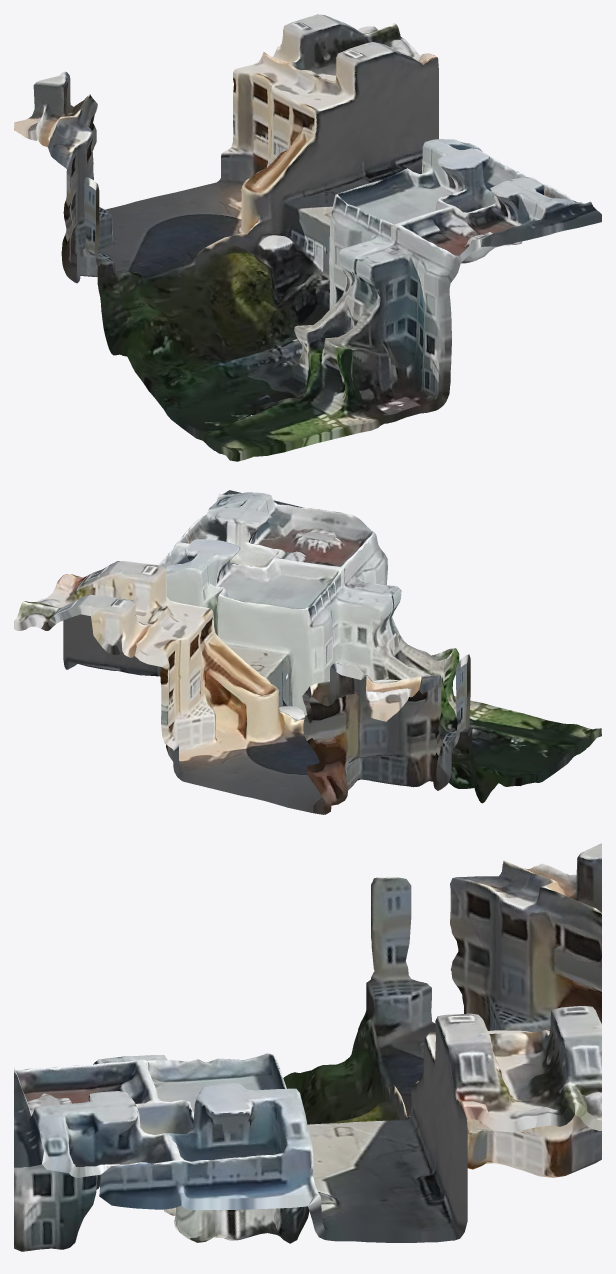
The model's file is z20-167731-405191-h0-yup-uvflip-v3-world.glb.
The picture shows the model from 3 angles, top to bottom: view 1: azimuth 30°, elevation 25°; view 2: azimuth 150°, elevation 25°; view 3: azimuth 270°, elevation 25°; orthographic projection. The views are drawn at different scales.
Bounding box in the file's own units: 30.2 × 17.32 × 30.32.
1 material, 1 textured.
